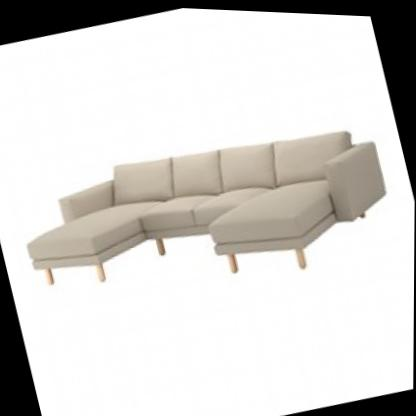Sofa: (1, 80, 406, 343)
